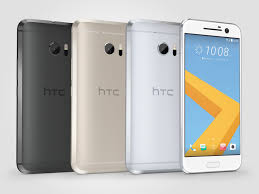htc: (177, 14, 242, 172), (123, 18, 183, 174), (14, 17, 70, 173), (67, 14, 123, 170)
